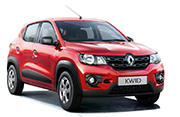car: (5, 6, 167, 115)
